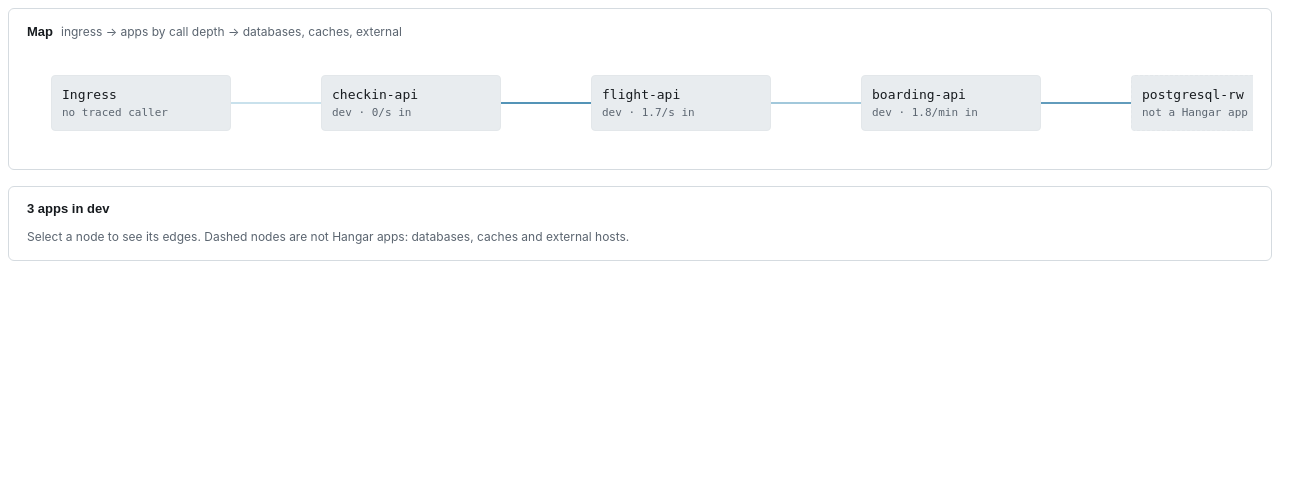
Test: Airspace views › Map: draws the env and lists a node’s edges
Click the button "flight-api dev · 1.7/s in" at [681, 103], box [591, 75, 771, 131]
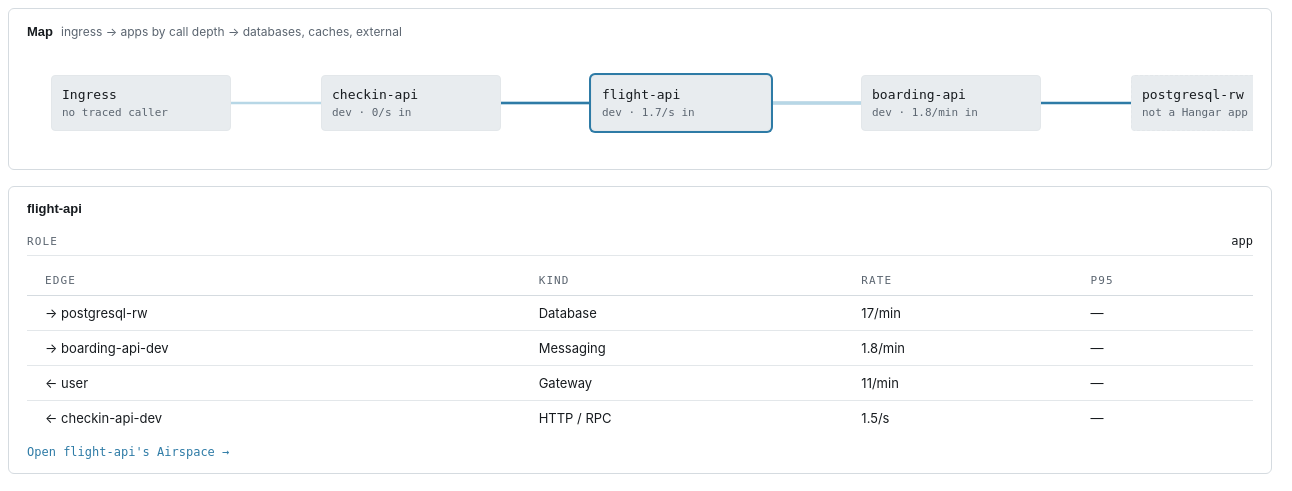
expect the text "→ postgresql-rw" is shown: met, box [27, 295, 525, 330]
expect the text "← checkin-api-dev" is shown: met, box [27, 400, 525, 435]
